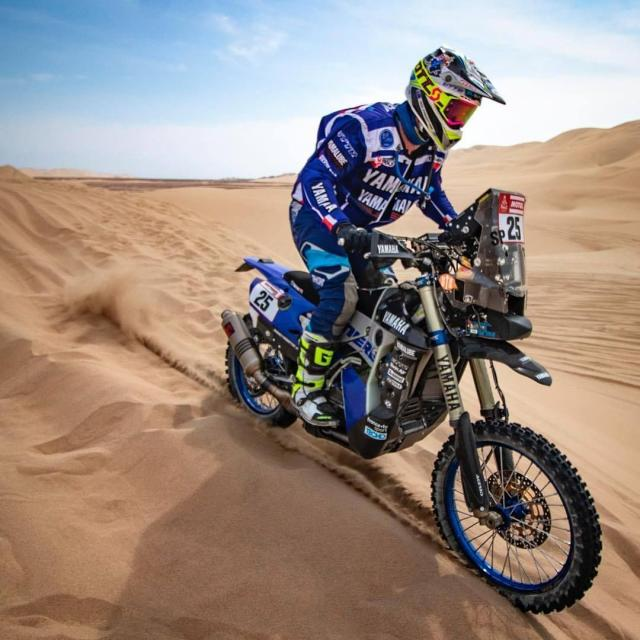illegal_helmet: (400, 41, 511, 160)
